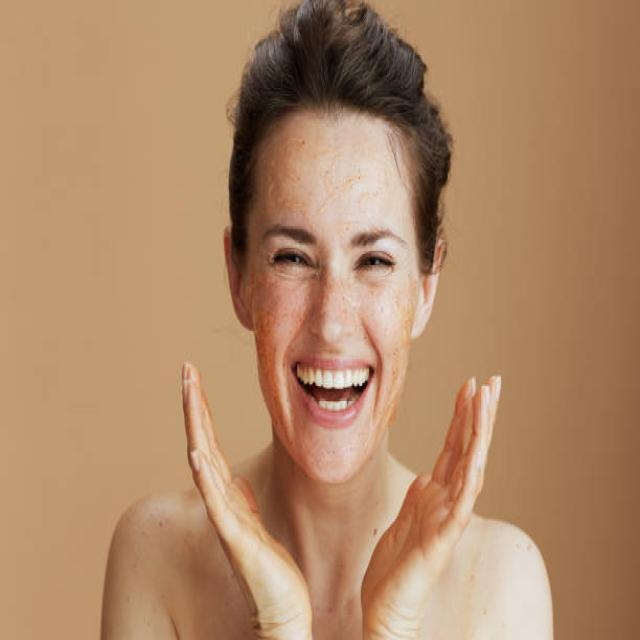dry: (272, 140, 413, 222), (364, 285, 415, 455), (244, 266, 296, 426)
